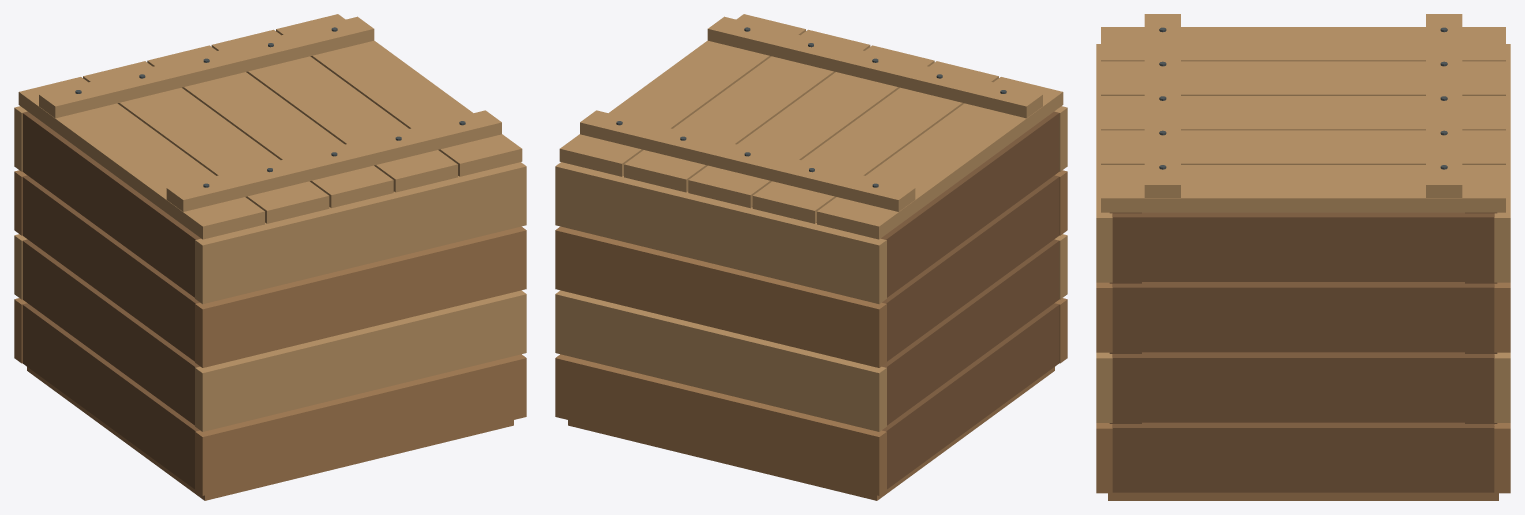
The model's file is JUNK_Crate.glb.
3 renders of one model, left to right at view 1: azimuth 30°, elevation 25°; view 2: azimuth 150°, elevation 25°; view 3: azimuth 270°, elevation 25°, orthographic. The views are drawn at different scales.
Visible parts, largest first — view 1: Lid, EndPlanks, FacePlanks1, FacePlanks0, Floor; view 2: Lid, EndPlanks, FacePlanks1, FacePlanks0, Floor; view 3: EndPlanks, Lid, FacePlanks1, FacePlanks0, Floor, CornerPosts.
Part boxes in pixels (bbox=[...]): Lid: bbox=[18, 14, 522, 239]; EndPlanks: bbox=[22, 111, 200, 489]; FacePlanks1: bbox=[14, 106, 526, 431]; FacePlanks0: bbox=[14, 170, 526, 495]; Floor: bbox=[27, 367, 513, 500]; Lid: bbox=[559, 14, 1063, 239]; EndPlanks: bbox=[881, 111, 1059, 489]; FacePlanks1: bbox=[555, 106, 1067, 431]; FacePlanks0: bbox=[555, 170, 1067, 495]; Floor: bbox=[568, 367, 1054, 500]; EndPlanks: bbox=[1112, 212, 1494, 492]; Lid: bbox=[1101, 14, 1505, 212]; FacePlanks1: bbox=[1096, 44, 1510, 422]; FacePlanks0: bbox=[1096, 282, 1510, 493]; Floor: bbox=[1108, 492, 1498, 500]; CornerPosts: bbox=[1109, 212, 1497, 423].
Bounding box in the file's own units: 0.6 × 0.5155 × 0.604.
